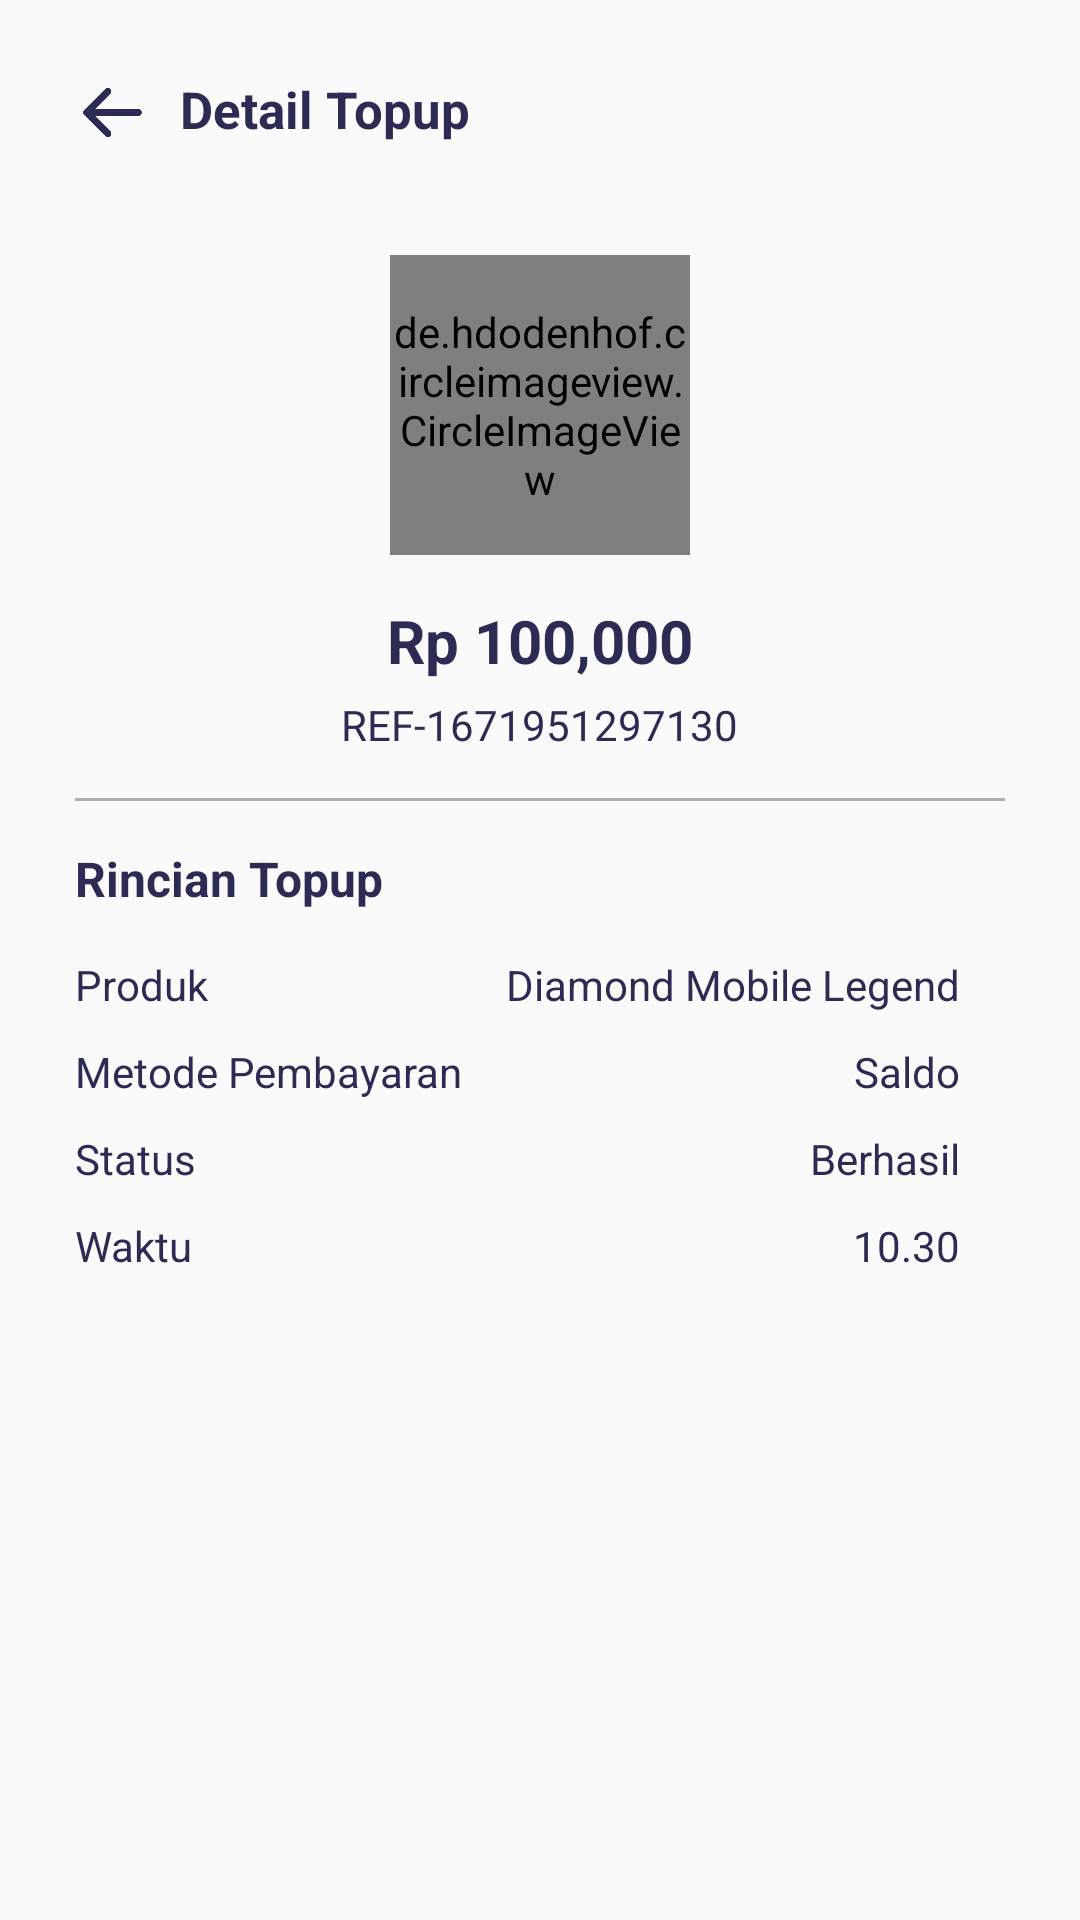

Screen size 1080px×1920px. Icon name, then its center in pixels as point (x, y):
arrow back: point (112, 112)
